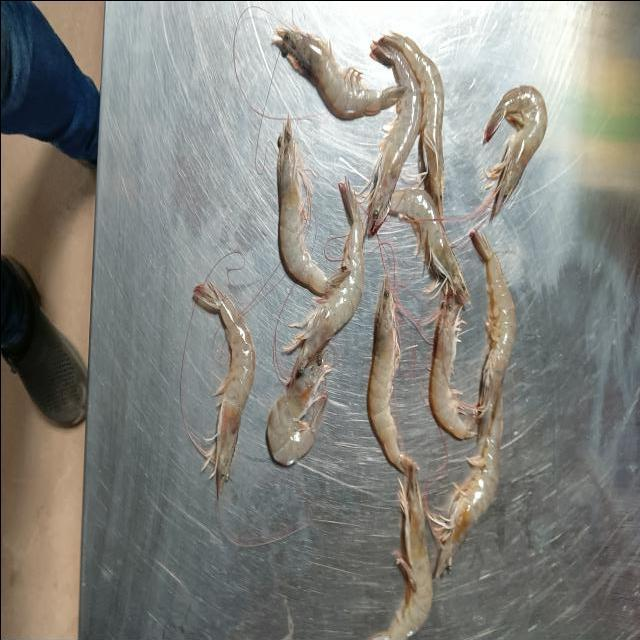shrimp: (284, 179, 364, 379), (426, 394, 501, 578), (192, 283, 254, 498), (379, 33, 444, 217), (271, 29, 402, 120), (369, 463, 431, 640), (365, 42, 421, 237), (276, 117, 330, 294), (470, 230, 515, 438), (389, 188, 469, 303), (366, 277, 410, 474), (482, 86, 546, 219), (266, 348, 330, 465), (428, 294, 474, 440)
